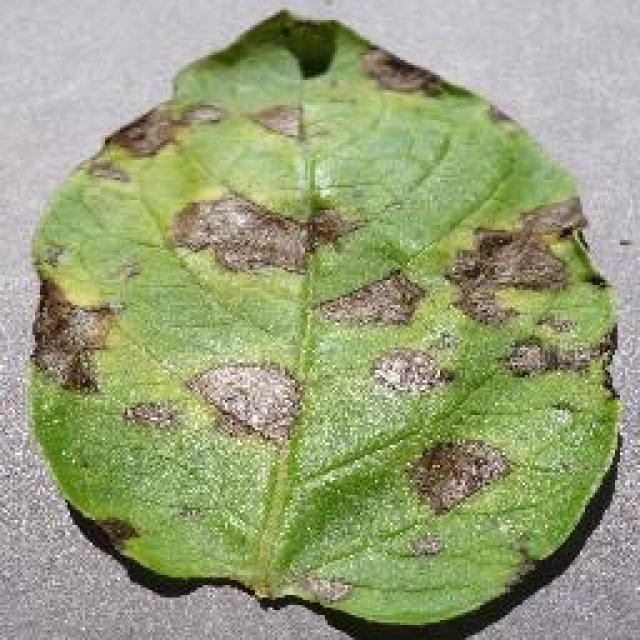Potato___Early_blight: (57, 36, 611, 512)
